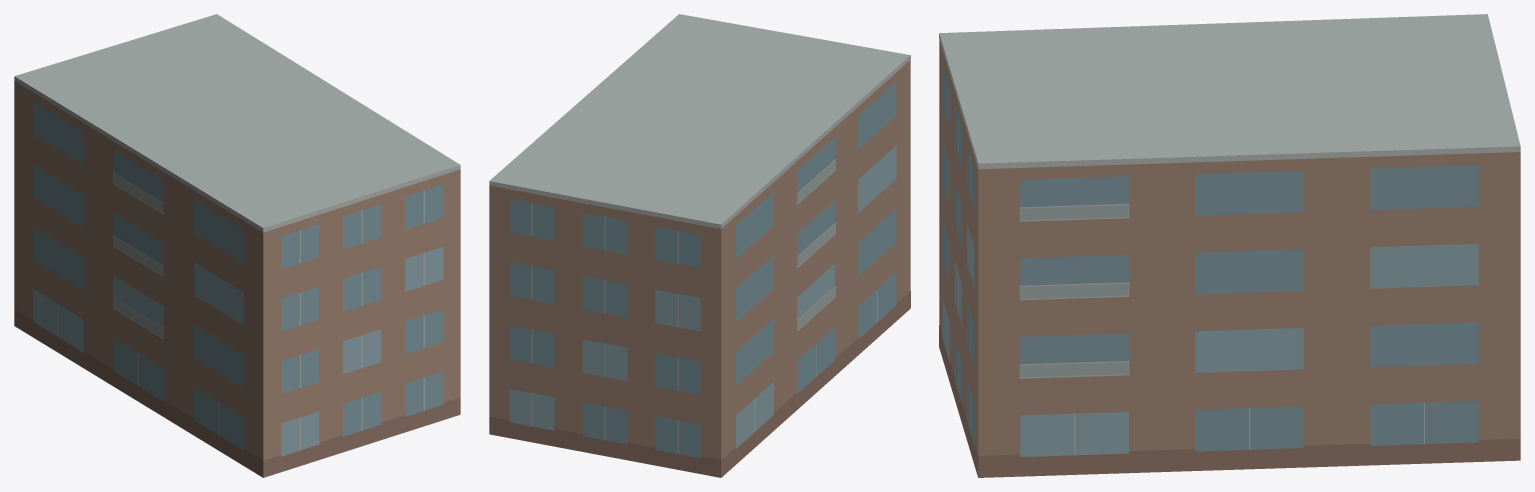
File: survey-upis-33031120.glb
The picture shows the model from 3 angles, left to right: view 1: azimuth 30°, elevation 25°; view 2: azimuth 150°, elevation 25°; view 3: azimuth 270°, elevation 25°; orthographic projection. The views are drawn at different scales.
Parts seen in each view (by area): view 1: survey-upis-33031120.tmp; view 2: survey-upis-33031120.tmp; view 3: survey-upis-33031120.tmp.
Part boxes in pixels (box(x1,y1,x2,y2)): survey-upis-33031120.tmp: box(14, 14, 460, 477); survey-upis-33031120.tmp: box(489, 14, 910, 477); survey-upis-33031120.tmp: box(939, 14, 1520, 477).
Size of the model in its own units: 14.07 by 13.75 by 23.08.
